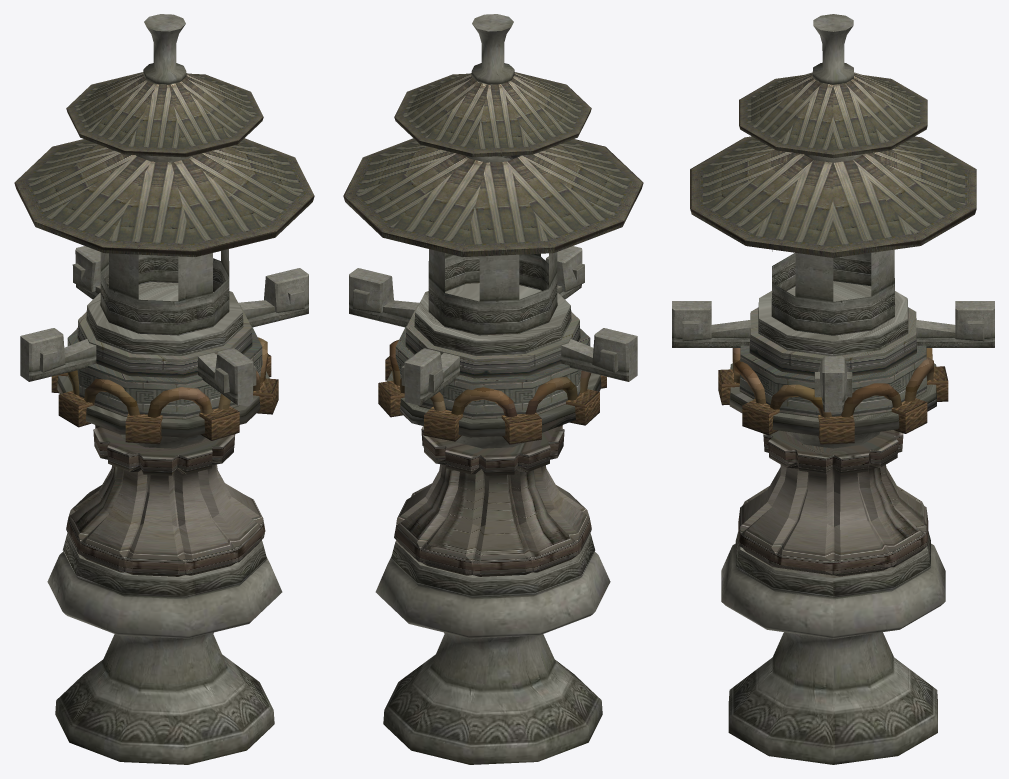
Rendered from lantern03.fbx.
3 views of the same model, side by side, from view 1: azimuth 30°, elevation 25°; view 2: azimuth 150°, elevation 25°; view 3: azimuth 270°, elevation 25° (orthographic).
Visible parts, largest first — view 1: cadnav_com.001, cadnav_com, cadnav_com.002, cadnav_com.004, cadnav_com.003; view 2: cadnav_com.001, cadnav_com, cadnav_com.002, cadnav_com.004, cadnav_com.003; view 3: cadnav_com.001, cadnav_com, cadnav_com.002, cadnav_com.004, cadnav_com.003.
Part boxes in pixels (<box>): cadnav_com.001: <box>20,14,308,764</box>; cadnav_com: <box>14,72,314,257</box>; cadnav_com.002: <box>66,425,265,576</box>; cadnav_com.004: <box>67,304,262,419</box>; cadnav_com.003: <box>51,327,278,444</box>; cadnav_com.001: <box>349,14,637,764</box>; cadnav_com: <box>343,72,643,257</box>; cadnav_com.002: <box>394,425,591,576</box>; cadnav_com.004: <box>395,304,590,419</box>; cadnav_com.003: <box>378,340,606,444</box>; cadnav_com.001: <box>672,14,994,764</box>; cadnav_com: <box>690,72,976,257</box>; cadnav_com.002: <box>738,430,928,576</box>; cadnav_com.004: <box>739,307,926,417</box>; cadnav_com.003: <box>718,348,948,444</box>.
Bounding box in the file's own units: 4205 × 10000 × 4205.
